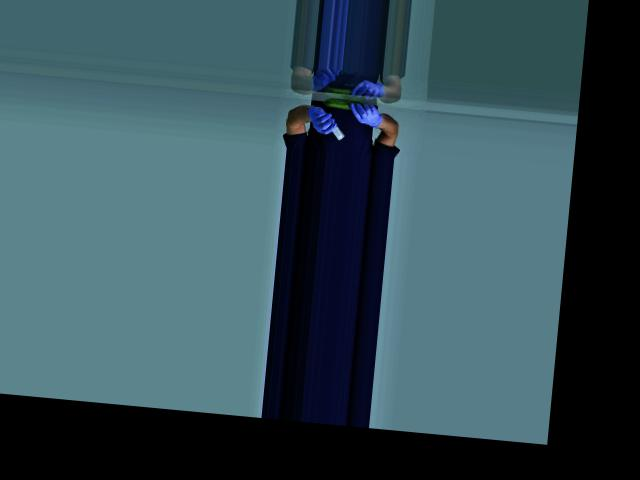cucumber: (322, 97, 362, 110)
